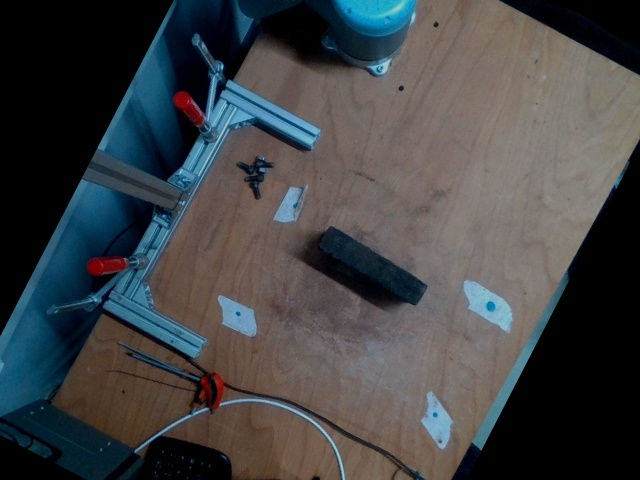brick-side: (318, 225, 426, 306)
